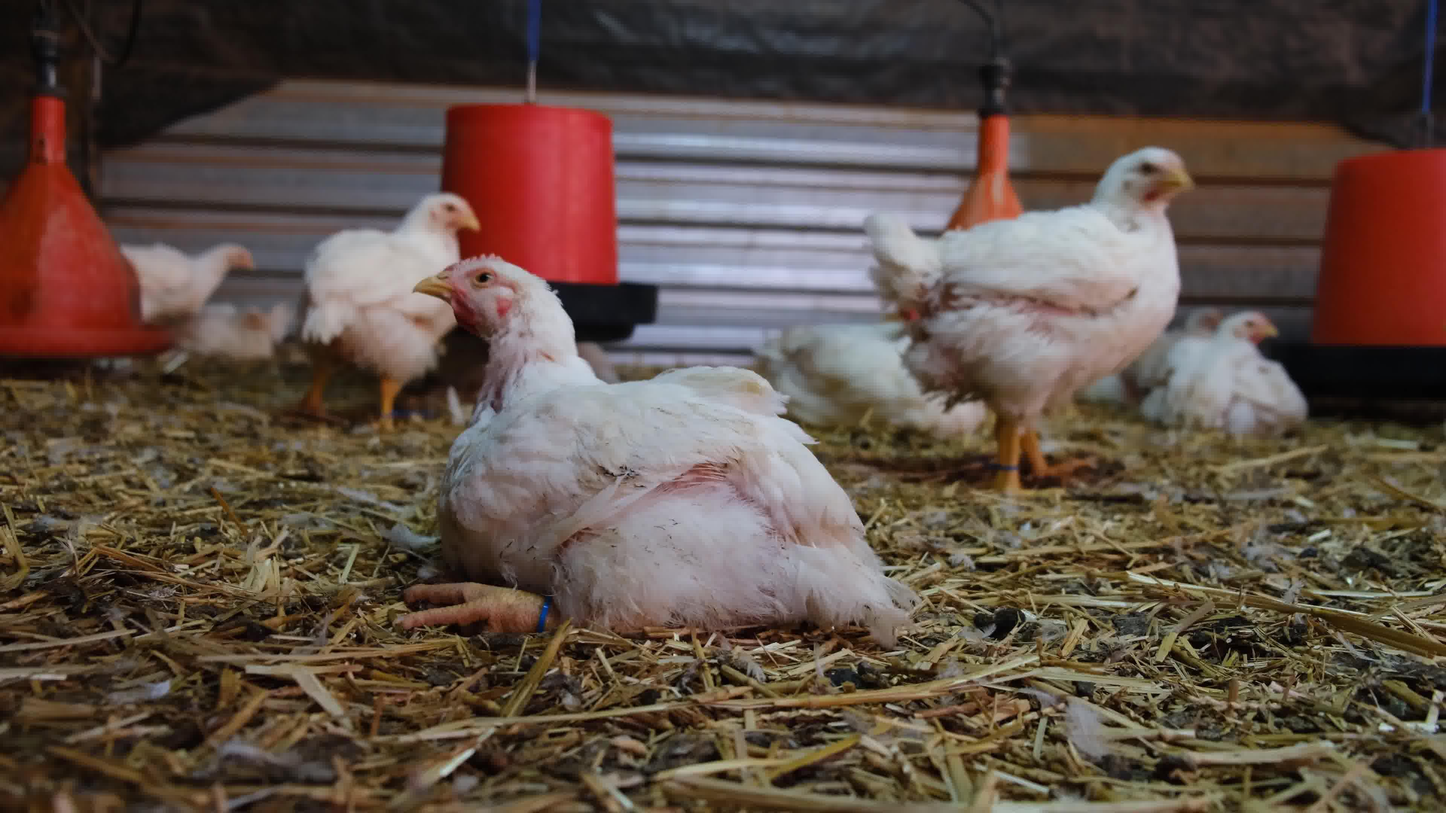AbNormal: (401, 256, 917, 647), (732, 297, 1036, 438), (1177, 307, 1316, 438), (1167, 280, 1245, 391), (196, 294, 307, 367)
Normal: (842, 136, 1197, 502), (303, 192, 510, 406), (115, 228, 271, 320)
